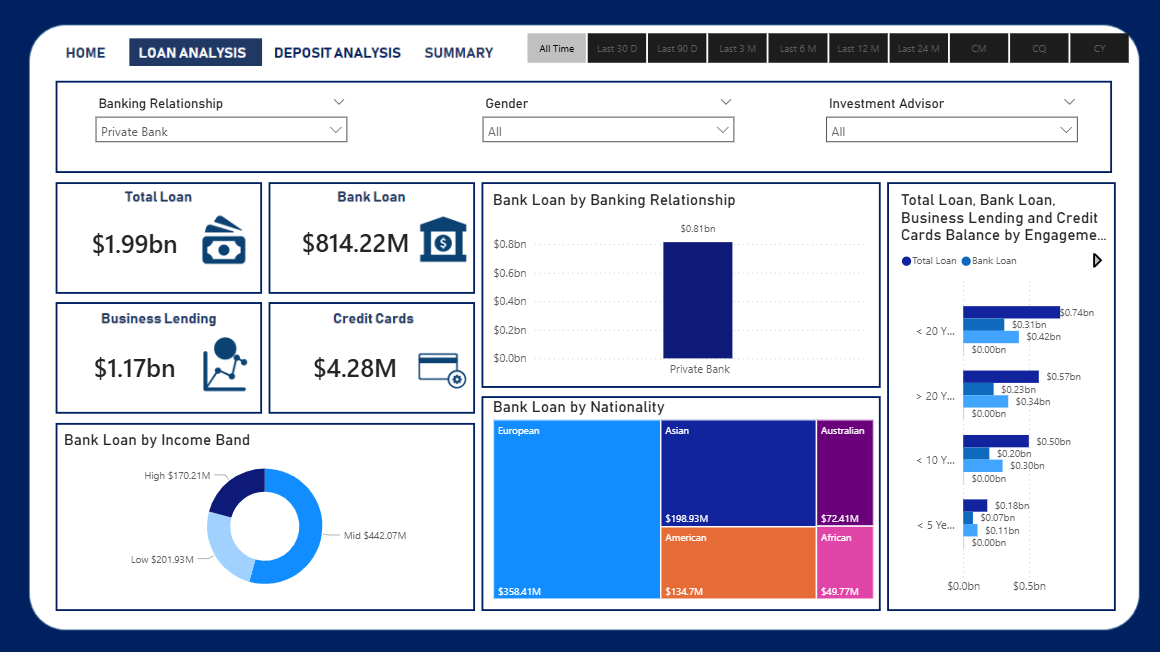

What the dashboard file says about the page in this screenshot:
{"tool":"powerbi","page":{"name":"Loan Analysis","canvas":[1280,720],"ordinal":1},"visuals":[{"type":"card","fields":{"Values":["DAX Measures.Total Loan"]},"box":[72.7,224,161.8,90.3],"z":0},{"type":"card","fields":{"Values":["DAX Measures.Bank Loan"]},"box":[307.2,224,172.4,89.1],"z":1000},{"type":"card","fields":{"Values":["DAX Measures.Credit Cards"]},"box":[307.2,360,171.2,89.1],"z":2000},{"type":"card","fields":{"Values":["DAX Measures.Business Lending"]},"box":[72.7,360,161.8,89.1],"z":3000},{"type":"slicer","fields":{"Values":["Banking Relationship.Banking Relationship"]},"box":[102.3,103.4,292.9,75.7],"z":4000},{"type":"slicer","fields":{"Values":["Gender.Gender"]},"box":[522.7,103.4,292.9,75.7],"z":5000},{"type":"slicer","fields":{"Values":["Investment Advisor.Investment Advisor"]},"box":[895,103.4,292.9,75.7],"z":6000},{"type":"donutChart","fields":{"Category":["Clients - Banking.Income Band"],"Y":["DAX Measures.Bank Loan"]},"box":[72.7,471.4,444.4,188.8],"z":7000},{"type":"clusteredBarChart","fields":{"Category":["Clients - Banking.Engagement Timeframe"],"Y":["DAX Measures.Total Loan","DAX Measures.Bank Loan","DAX Measures.Business Lending","DAX Measures.Credit Cards"]},"box":[981.5,212.2,236.9,447.9],"z":8000},{"type":"treemap","fields":{"Group":["Clients - Banking.Nationality"],"Values":["DAX Measures.Bank Loan"]},"box":[538.2,436.2,422.1,224],"z":9000},{"type":"lineClusteredColumnComboChart","fields":{"Y":["DAX Measures.Bank Loan"],"Category":["Banking Relationship.Banking Relationship"]},"box":[538.2,212.2,411.6,212.2],"z":10000},{"type":"slicer","fields":{"Values":["Period.Name"]},"box":[555.2,34.6,702.1,46.6],"z":11000},{"type":"actionButton","box":[72.8,44.2,58.5,31],"z":12000},{"type":"actionButton","box":[306.9,44.7,119.4,31],"z":13000},{"type":"actionButton","box":[471.6,44.2,83.6,31],"z":14000}]}

Visuals, with their boxes in screenshot pixels (x1, y1, x2, y2), scaled from the page's 1280x720 canvas onto the 1160x652 screenshot:
card - DAX Measures.Total Loan: 66/203/213/285
card - DAX Measures.Bank Loan: 278/203/435/284
card - DAX Measures.Credit Cards: 278/326/434/407
card - DAX Measures.Business Lending: 66/326/213/407
slicer - Banking Relationship.Banking Relationship: 93/94/358/162
slicer - Gender.Gender: 474/94/739/162
slicer - Investment Advisor.Investment Advisor: 811/94/1077/162
donutChart - Clients - Banking.Income Band x DAX Measures.Bank Loan: 66/427/469/598
clusteredBarChart - Clients - Banking.Engagement Timeframe x DAX Measures.Total Loan: 889/192/1104/598
treemap - Clients - Banking.Nationality x DAX Measures.Bank Loan: 488/395/870/598
lineClusteredColumnComboChart - DAX Measures.Bank Loan x Banking Relationship.Banking Relationship: 488/192/861/384
slicer - Period.Name: 503/31/1139/74
actionButton: 66/40/119/68
actionButton: 278/40/386/69
actionButton: 427/40/503/68
